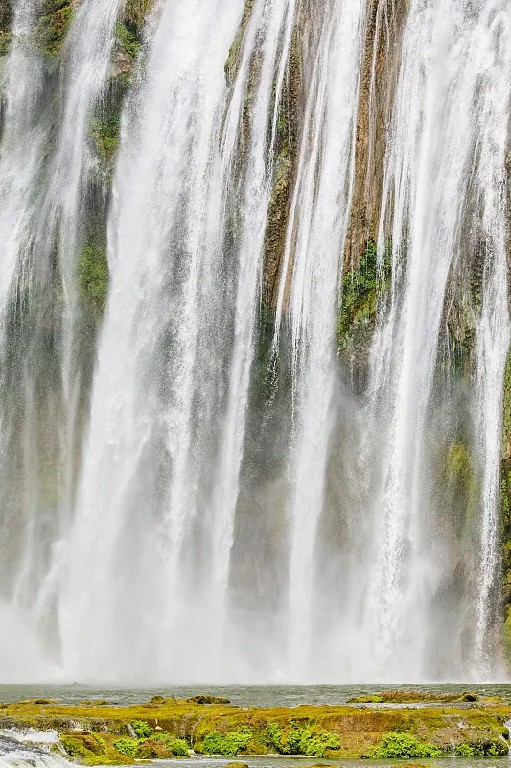Huangguoshu: (1, 1, 511, 683)
